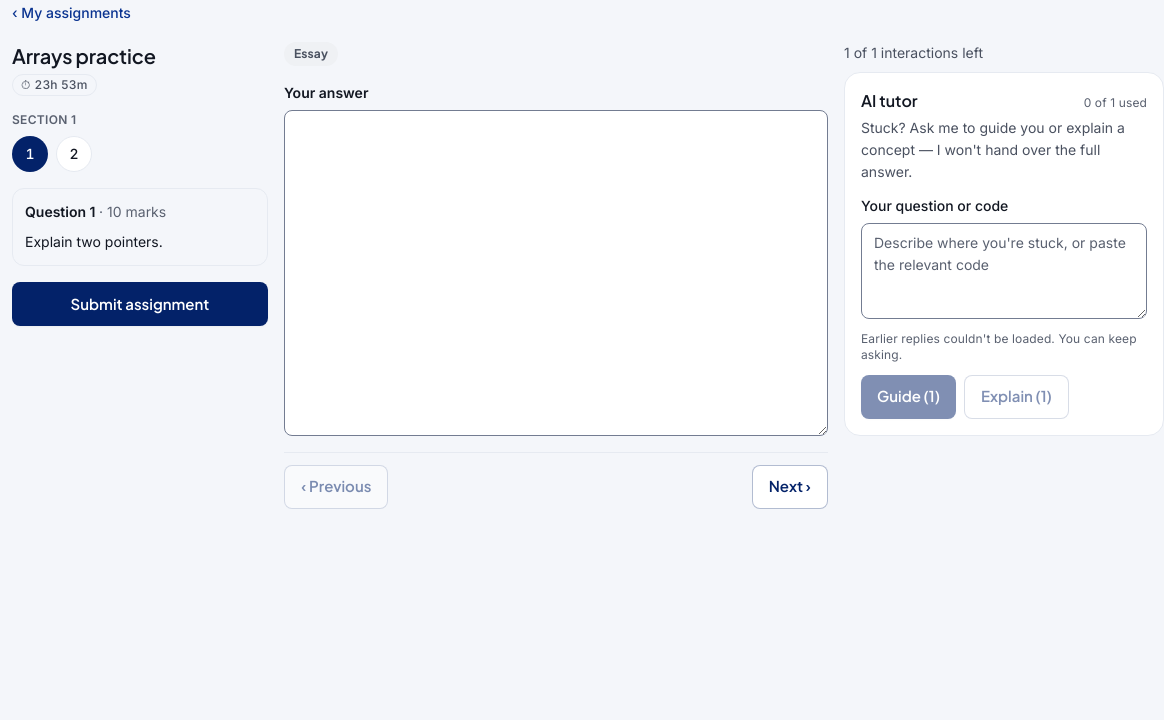
it: StructuredAssignment workspace › shows a clear state for ai_disabled
Type "Help" into the text box labelled "Your question or code" at (1004, 271), box [861,223,1147,319]
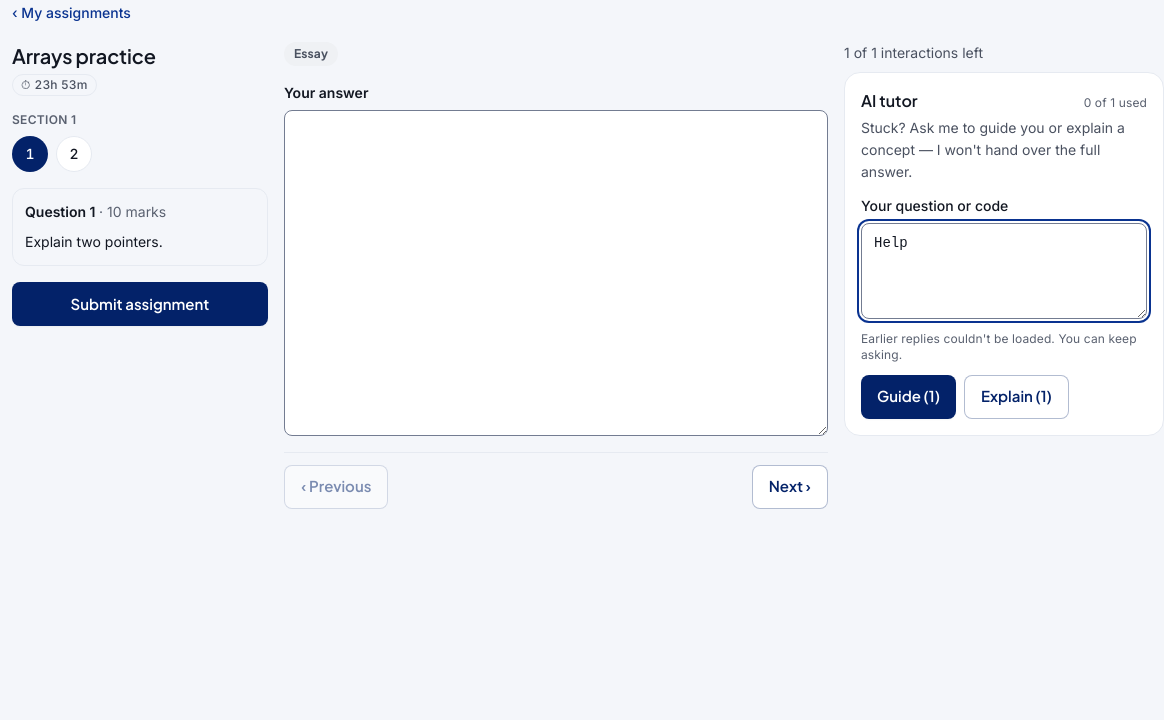
Click the button "Explain (1)" at (1016, 397), box [964,375,1069,419]
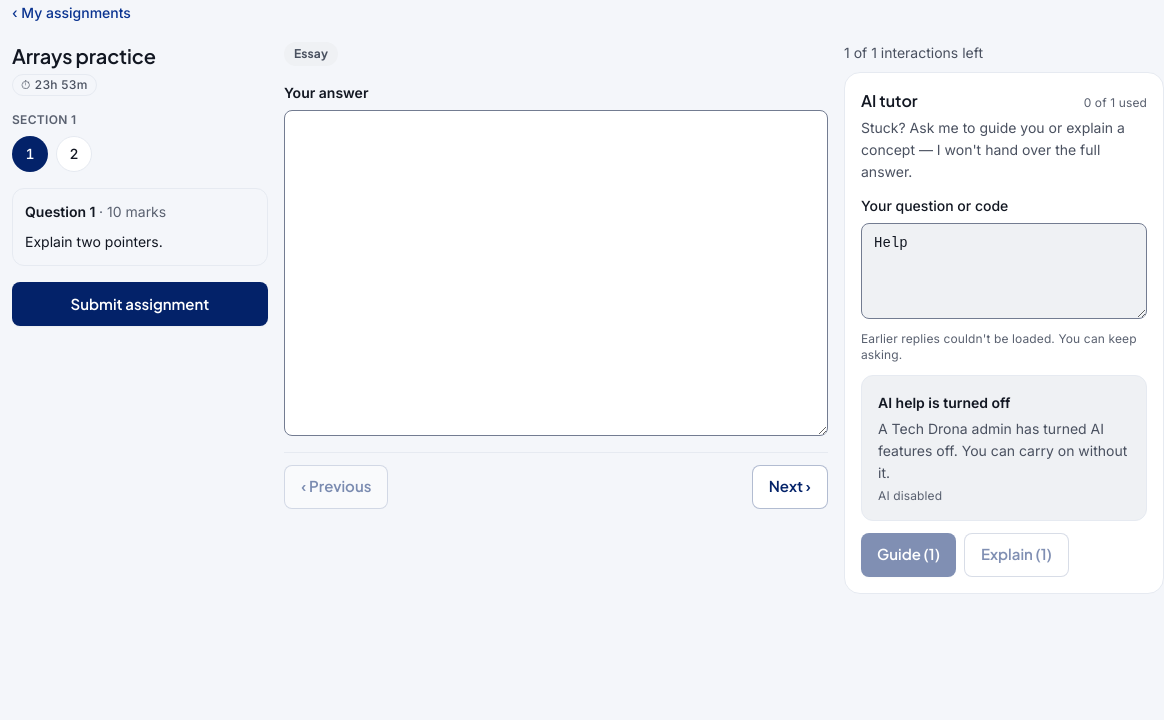
expect the text "AI help is turned off" is shown: met, box [878,394,1010,411]
